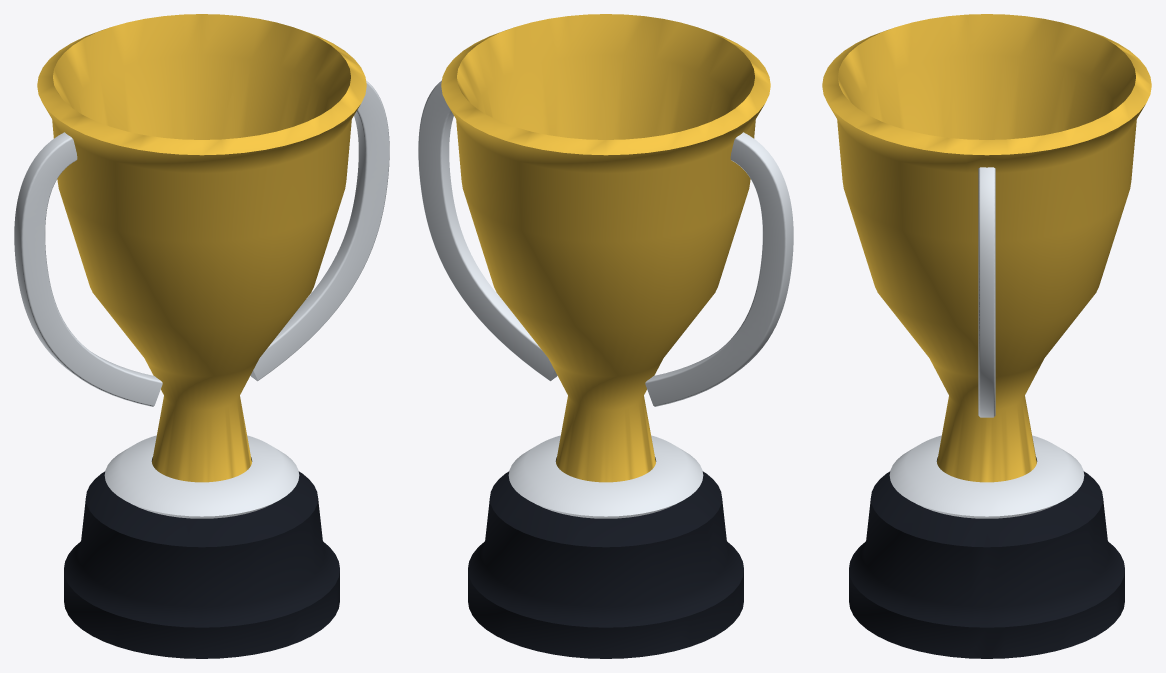
The model's file is gp_trophy_classic.glb.
3 renders of one model, left to right at view 1: azimuth 30°, elevation 25°; view 2: azimuth 150°, elevation 25°; view 3: azimuth 270°, elevation 25°, orthographic.
Parts seen in each view (by area): view 1: GP1_Cup, GP1_Base, GP1_Handle_L, GP1_Handle_R, GP1_Collar; view 2: GP1_Cup, GP1_Base, GP1_Handle_L, GP1_Handle_R, GP1_Collar; view 3: GP1_Cup, GP1_Base, GP1_Collar, GP1_Handle_R.
Part boxes in pixels (box(x1,y1,x2,y2)): GP1_Cup: box(37, 14, 366, 482); GP1_Base: box(64, 457, 339, 658); GP1_Handle_L: box(14, 132, 162, 406); GP1_Handle_R: box(250, 80, 389, 381); GP1_Collar: box(104, 435, 299, 518); GP1_Cup: box(441, 14, 770, 482); GP1_Base: box(468, 457, 743, 658); GP1_Handle_L: box(645, 132, 793, 406); GP1_Handle_R: box(418, 80, 557, 381); GP1_Collar: box(508, 435, 703, 518); GP1_Cup: box(822, 14, 1151, 482); GP1_Base: box(849, 457, 1124, 658); GP1_Collar: box(889, 435, 1084, 518); GP1_Handle_R: box(978, 167, 995, 417).
Size of the model in its own units: 0.2714 by 0.368 by 0.21.
